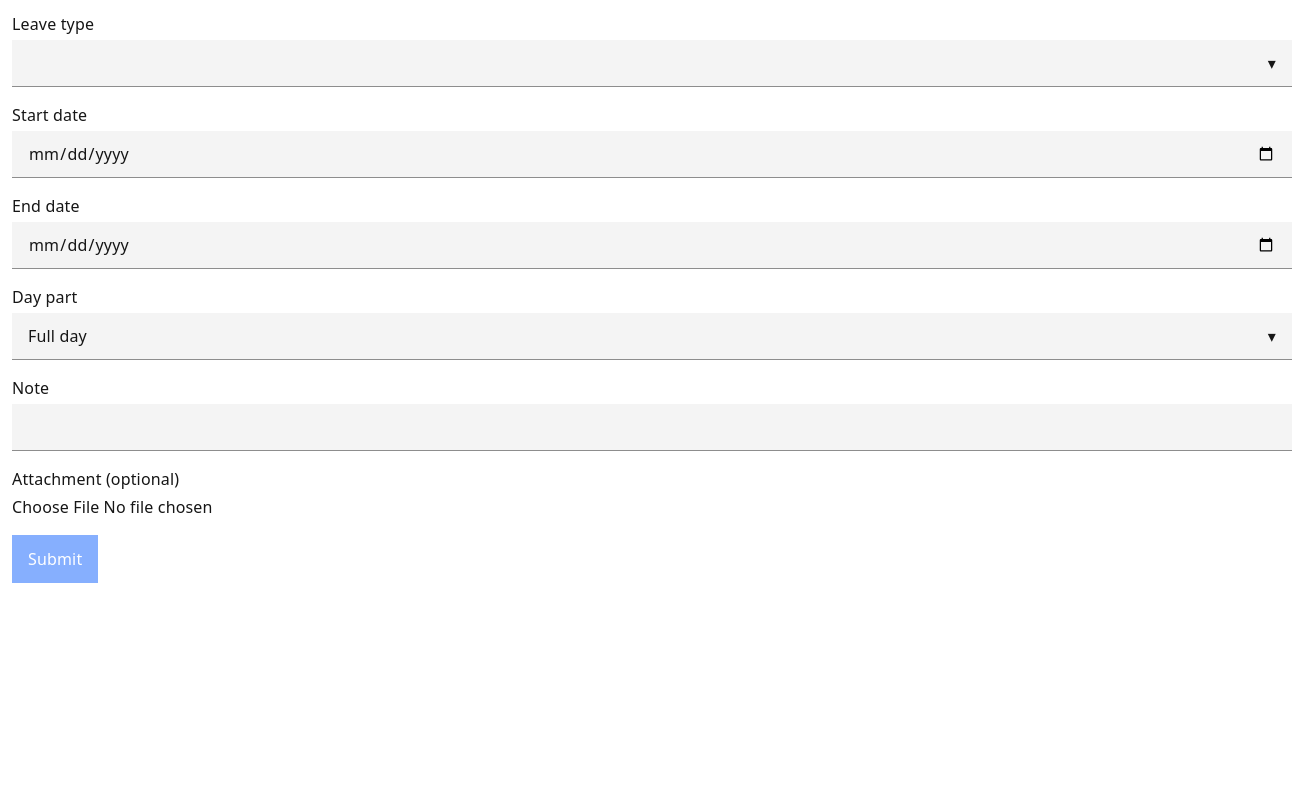
it: LeaveRequestForm › disables submit until leave type, dates, and note are all present
Expected: the button "Submit" is disabled, [12, 535, 98, 583]
Click the dropdown named "Leave type". click: (1272, 63)
box: [12, 40, 1292, 87]
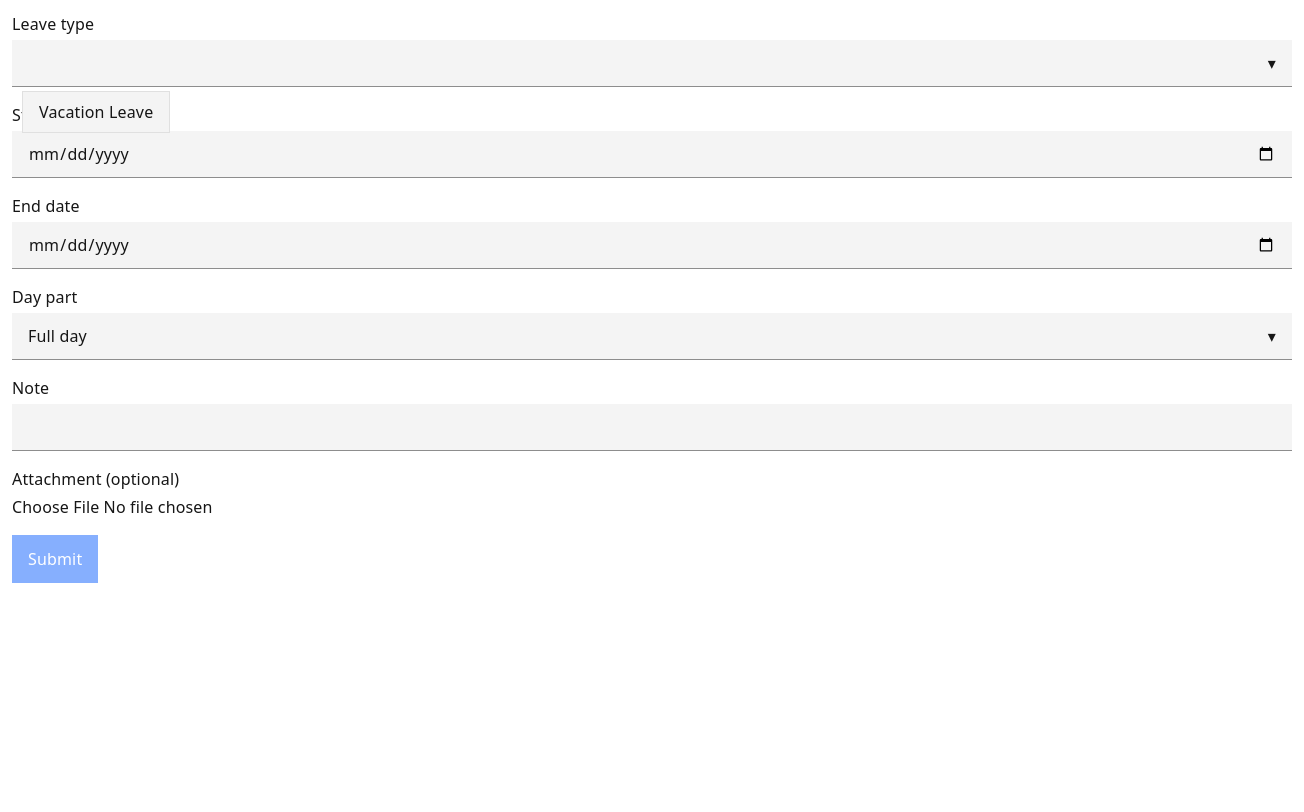
Click the option "Vacation Leave". click: (96, 112)
box: [23, 92, 169, 132]
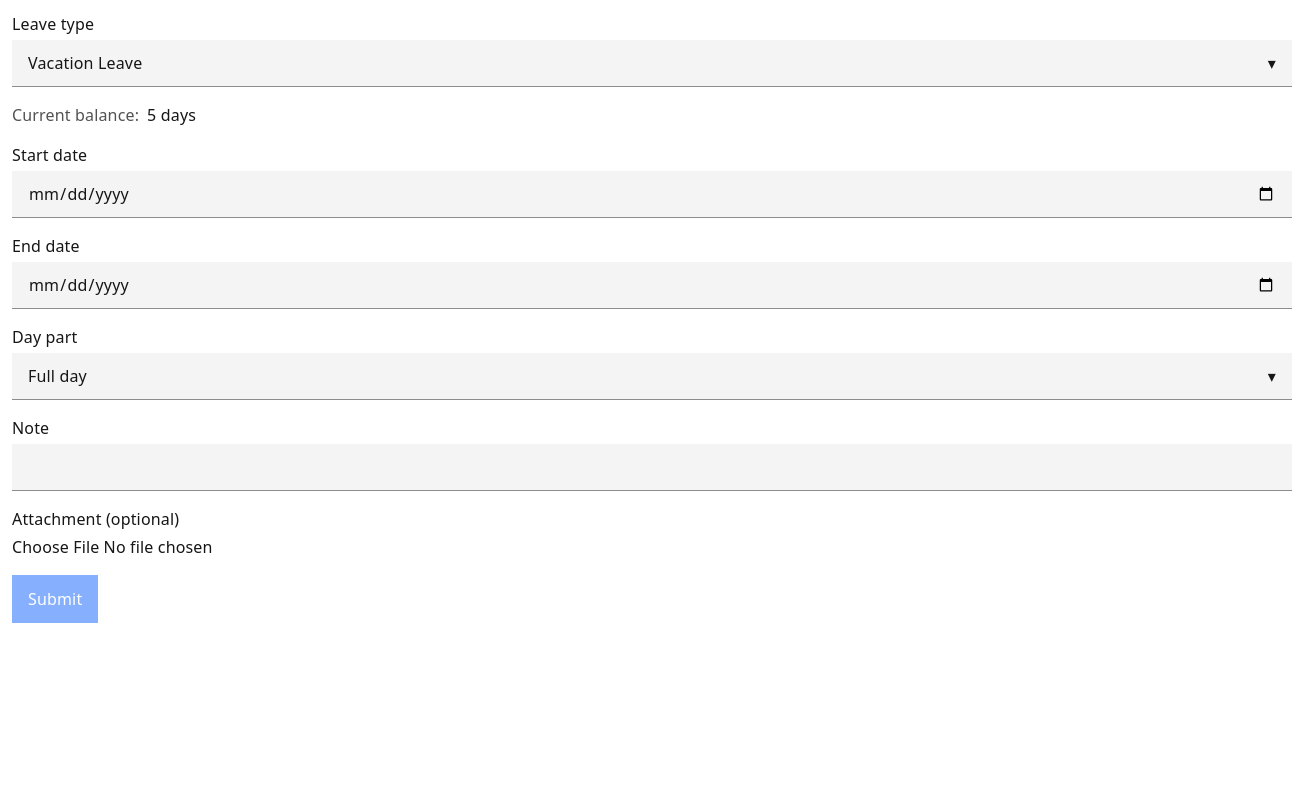
Expected: the button "Submit" is disabled, [12, 575, 98, 623]
Type "2026-08-10" into the date field labelled "Start date". click: (652, 194)
box: [12, 171, 1292, 218]
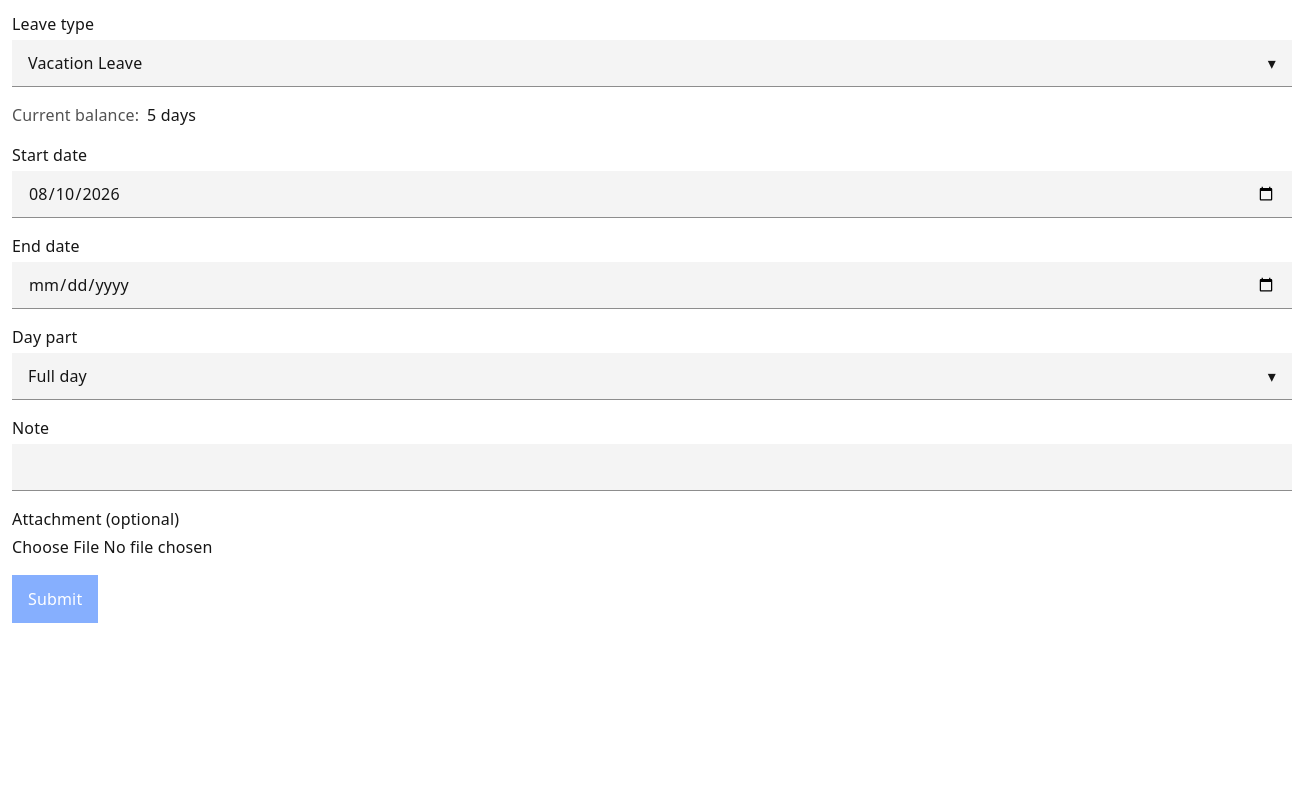
Type "2026-08-12" into the date field labelled "End date". click: (652, 286)
box: [12, 262, 1292, 309]
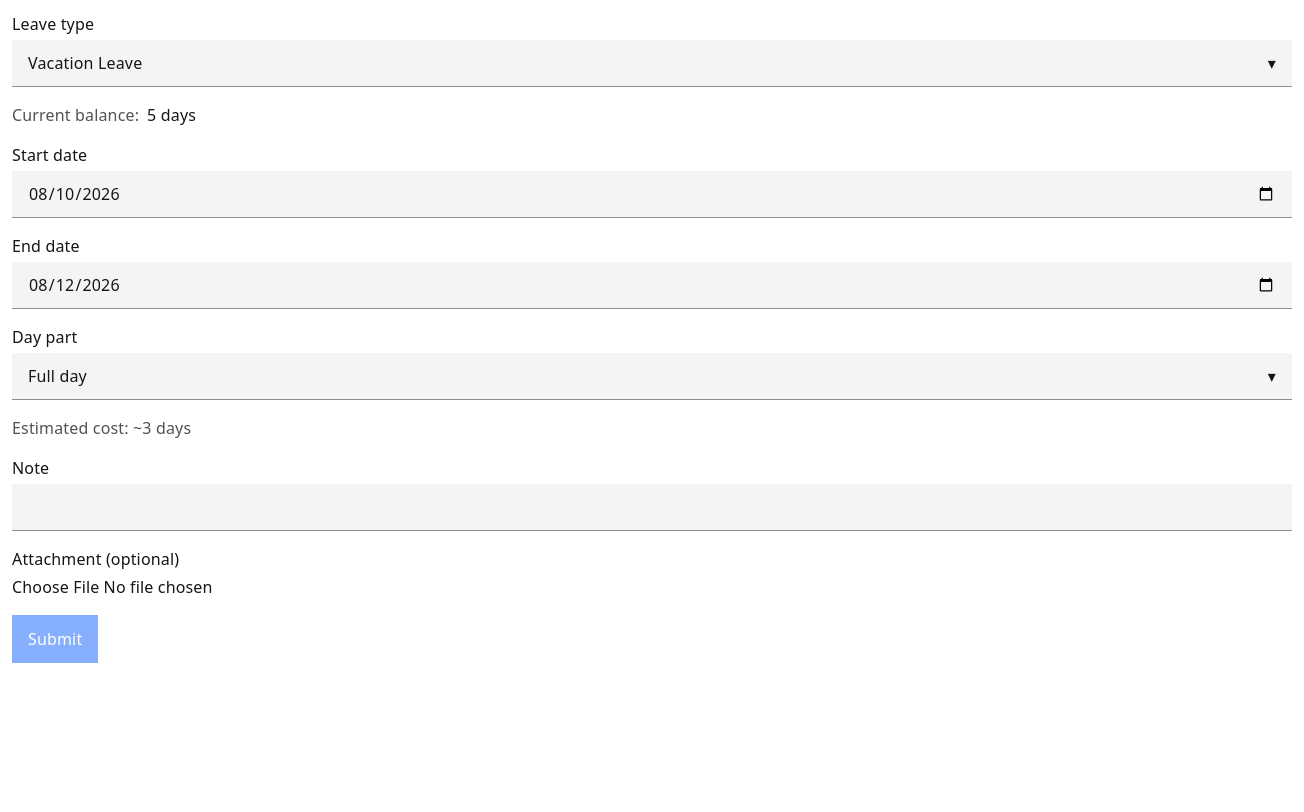
Expected: the button "Submit" is disabled, [12, 615, 98, 663]
Type "Family trip" into the field labelled "Note". click: (652, 508)
box: [12, 484, 1292, 531]
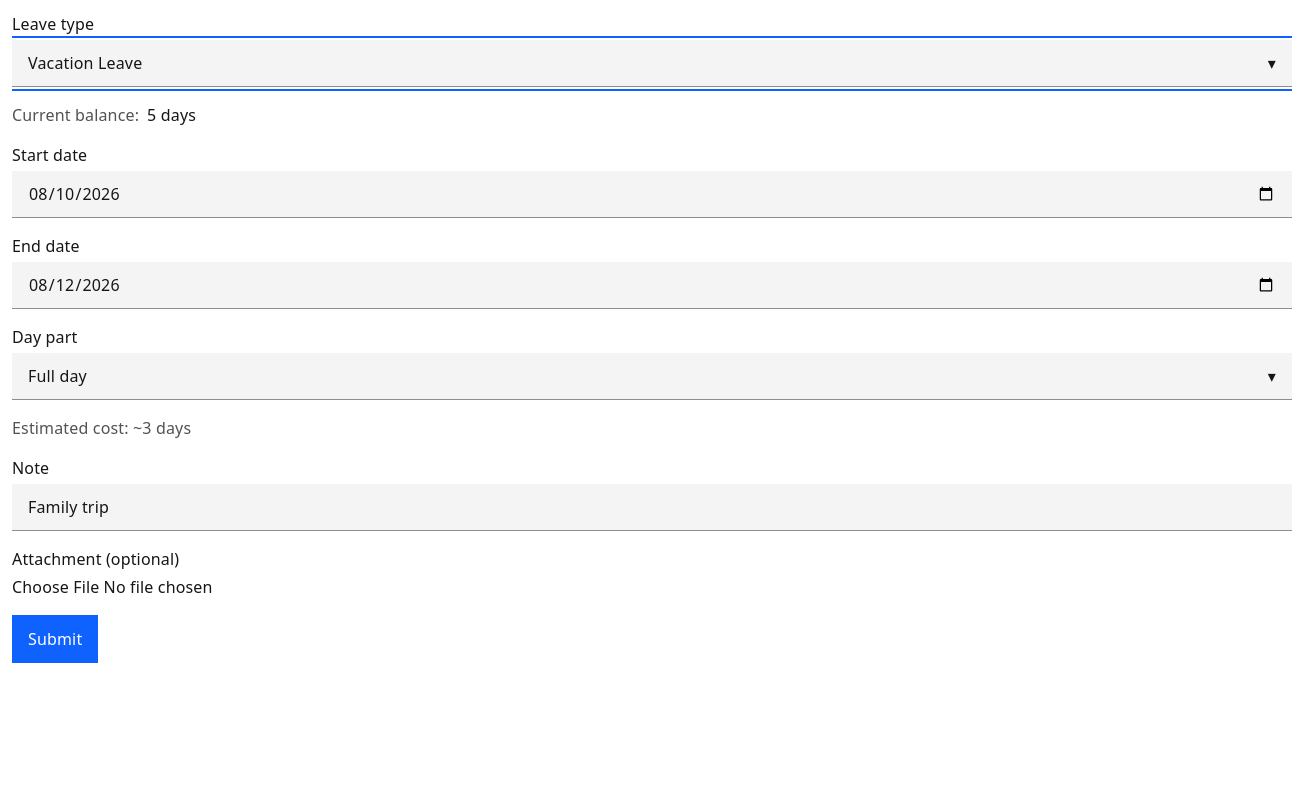
Now the button "Submit" is enabled, box [12, 615, 98, 663]
